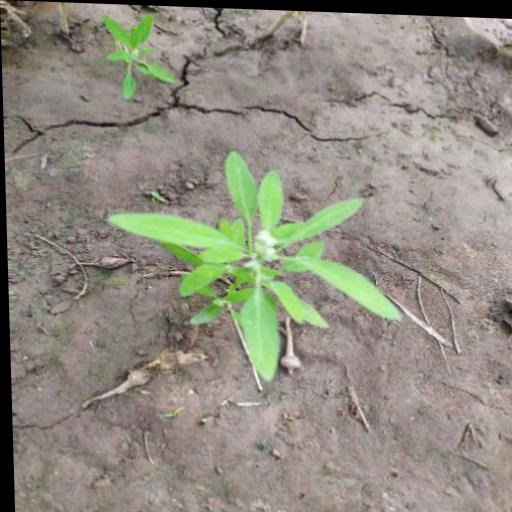weed: (92, 132, 411, 396), (92, 11, 176, 95)
